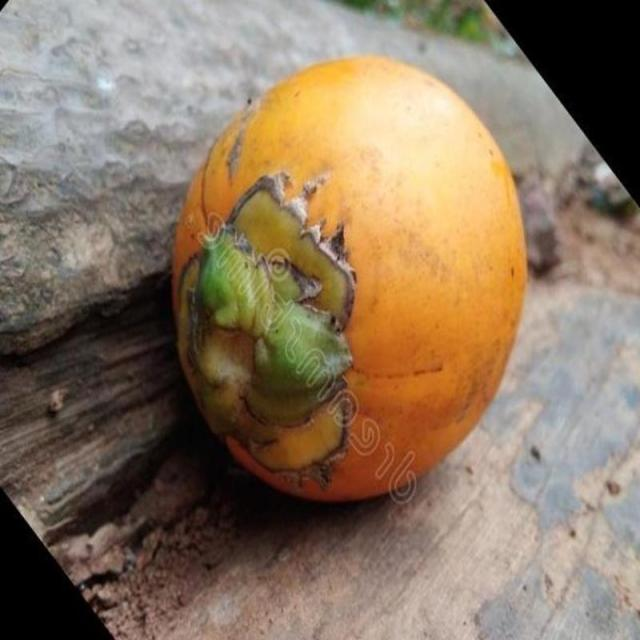good: (169, 54, 528, 506)
